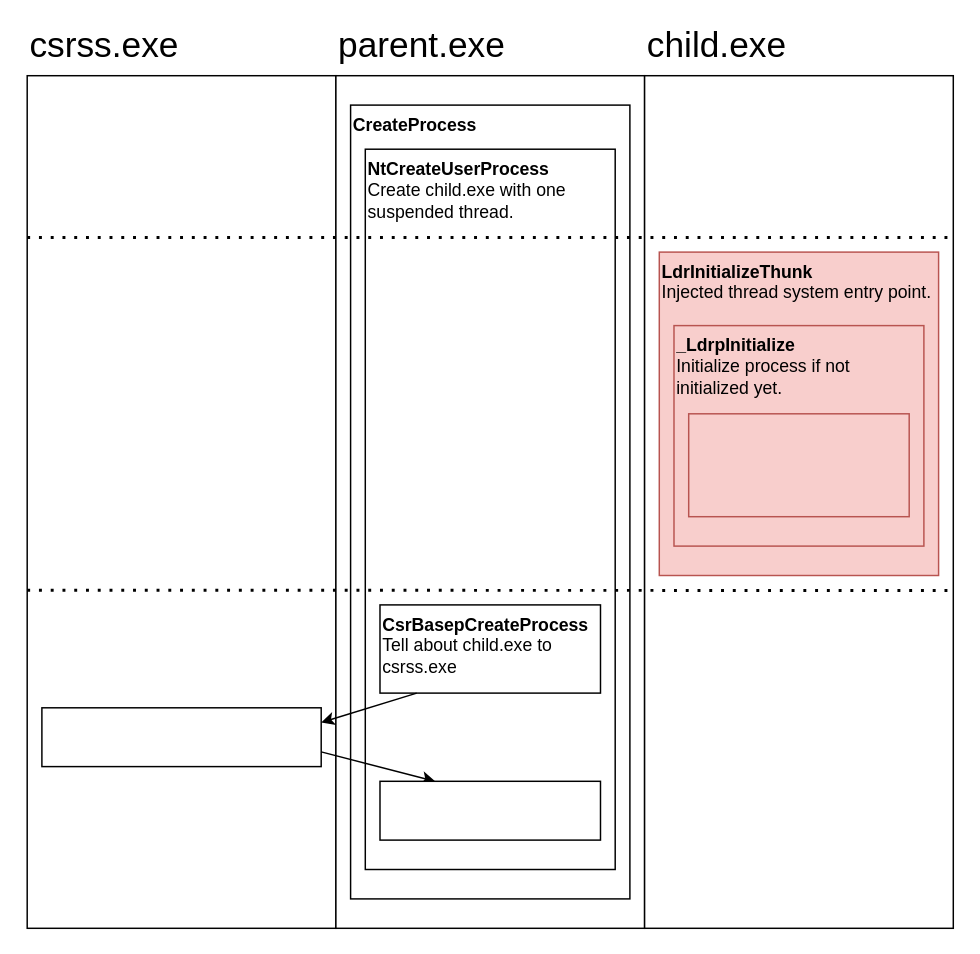
Some shapes in this 980 by 954 pixel diagram are drawn without their labels. Here are the shapes that lost their labels. From the top down, the centre of each, then its label:
the point at 798,464: ConsoleInitialize Create console if the process is a console process.
the point at 180,736: Is the console of c hild.exe already initialized? If so, return an error.
the point at 489,810: Terminate child.exe and return an error.
